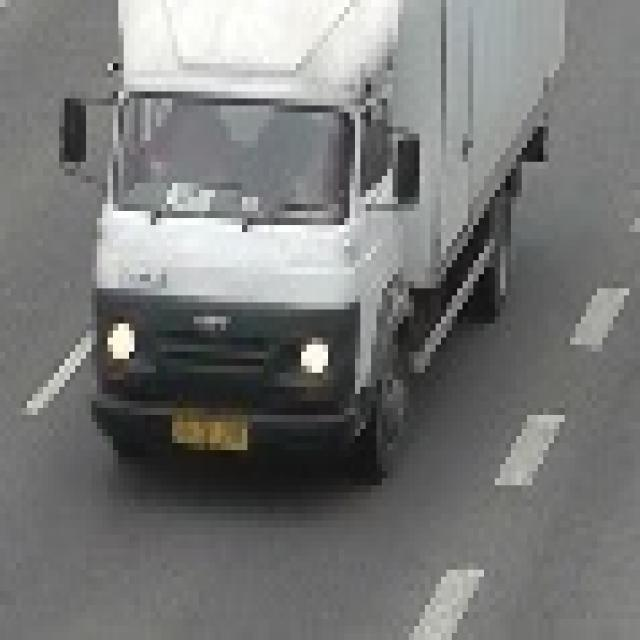truck: (54, 0, 554, 471)
